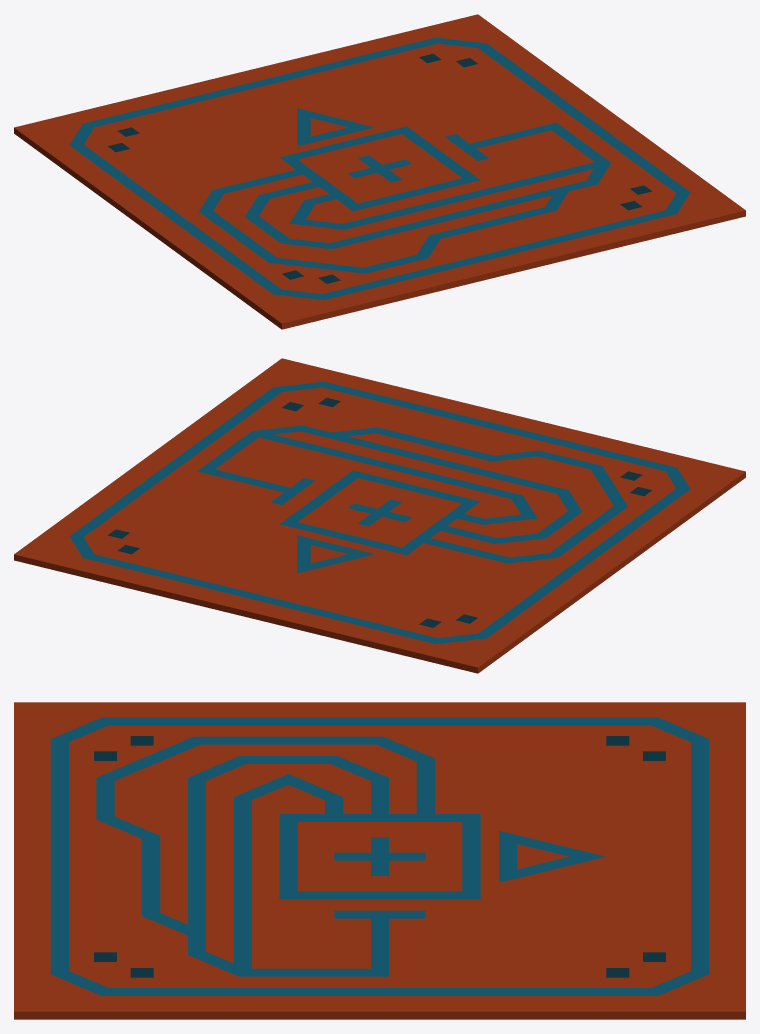
File: Tile_2-1.fbx
The picture shows the model from 3 angles, top to bottom: view 1: azimuth 30°, elevation 25°; view 2: azimuth 150°, elevation 25°; view 3: azimuth 270°, elevation 25°; orthographic projection. The views are drawn at different scales.
Parts seen in each view (by area): view 1: Tile_2-1; view 2: Tile_2-1; view 3: Tile_2-1.
Part boxes in pixels (box(x1,y1,x2,y2)): Tile_2-1: box(14, 14, 745, 329); Tile_2-1: box(14, 358, 745, 673); Tile_2-1: box(14, 702, 745, 1019).
Bounding box in the file's own units: 4 × 4 × 0.051.
